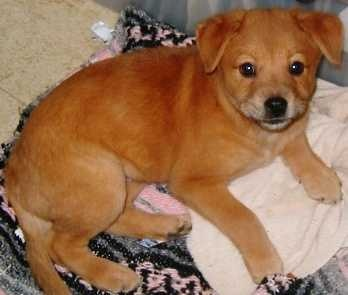Dog: (7, 8, 343, 294)
